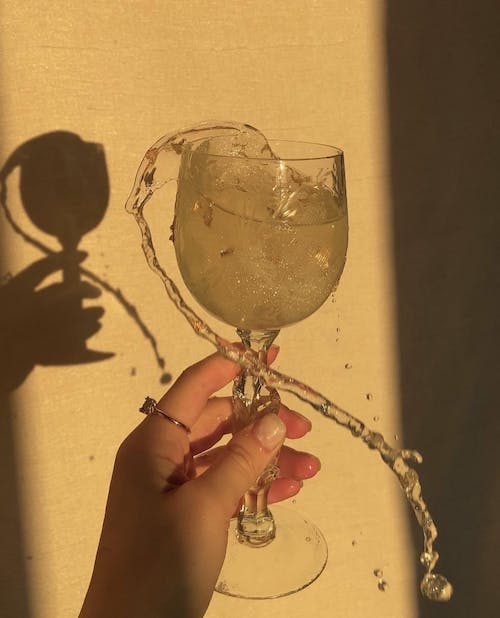alcohol: (169, 133, 351, 601)
